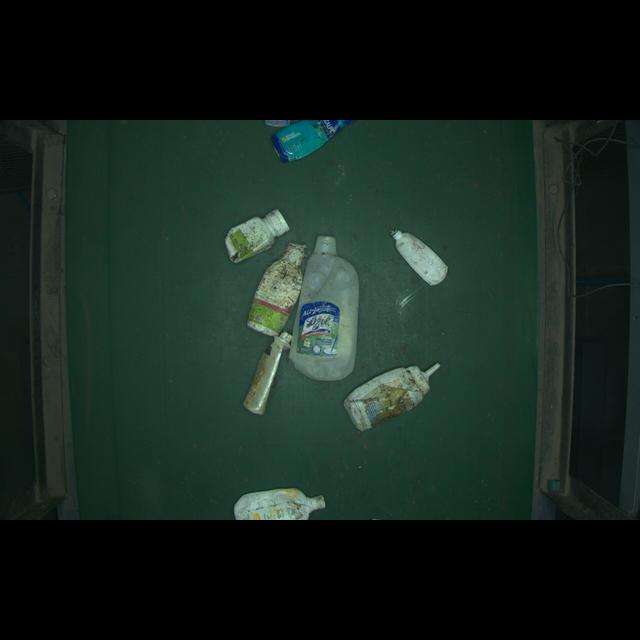mix PET: (294, 225, 359, 388), (332, 361, 456, 431), (251, 233, 304, 333), (385, 224, 454, 297), (241, 329, 291, 417)
